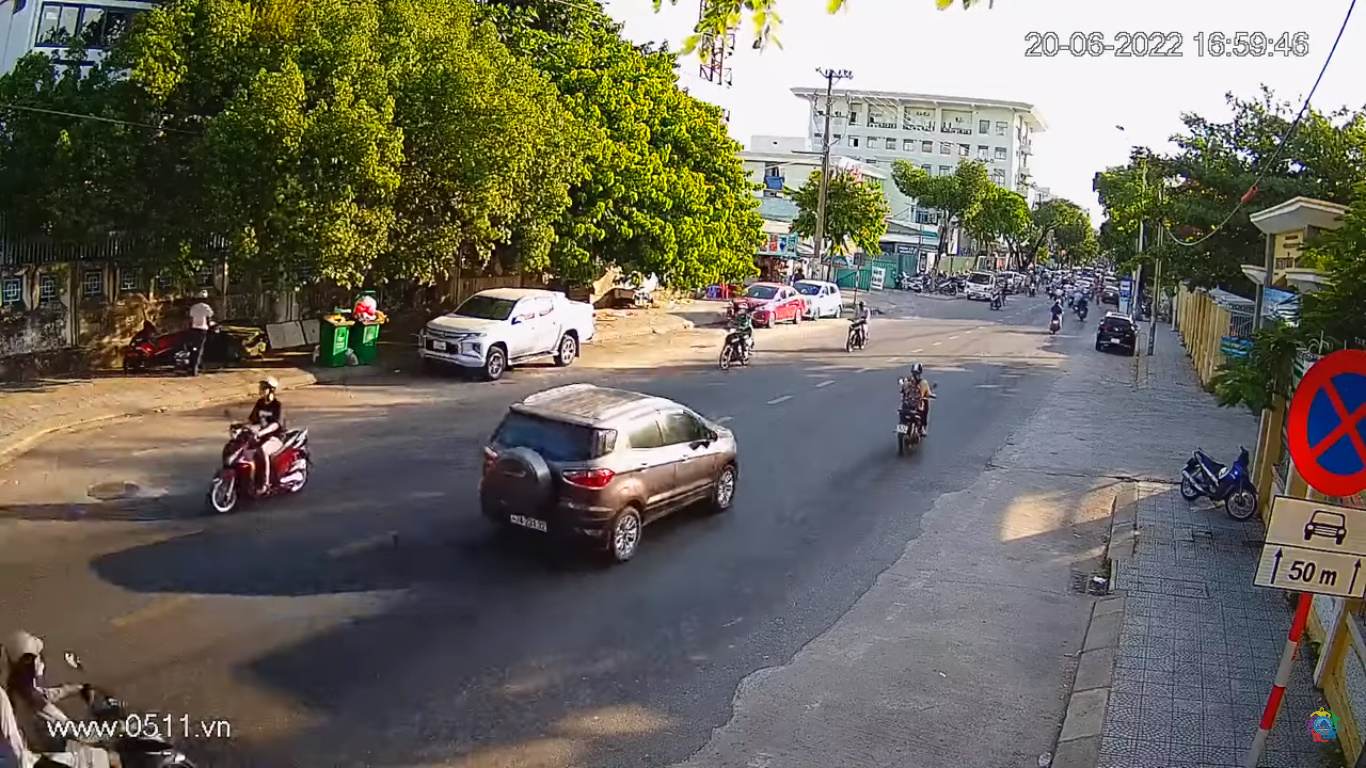car: (475, 387, 744, 560)
